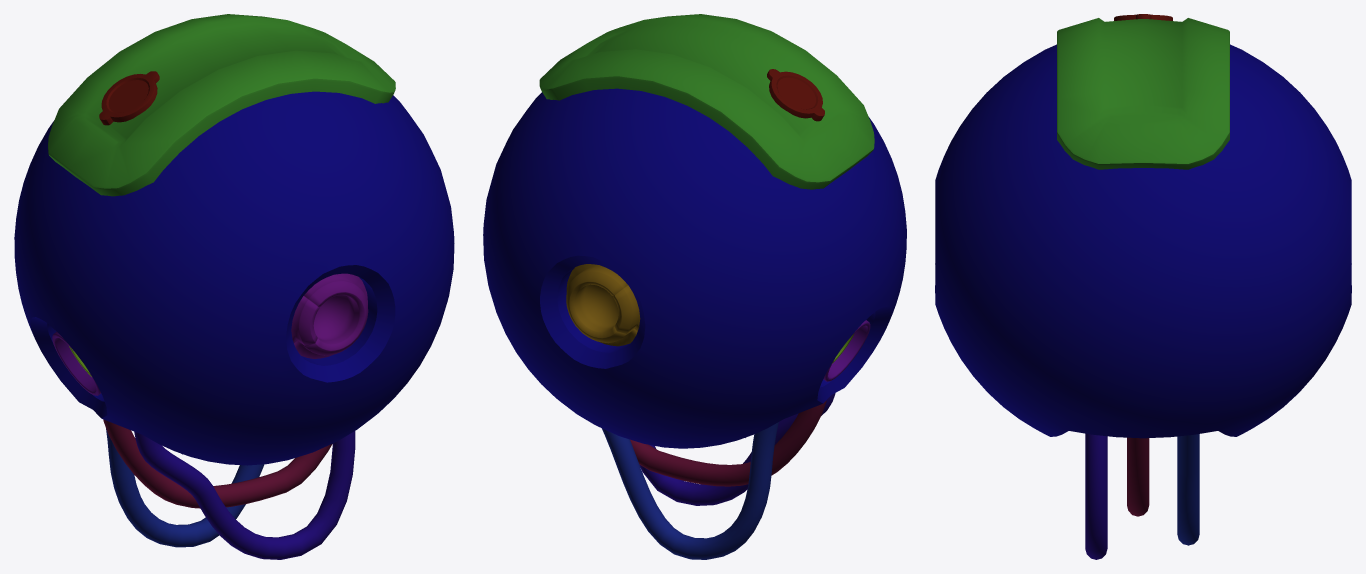
The model's file is Boss.fbx.
3 views of the same model, side by side, from view 1: azimuth 30°, elevation 25°; view 2: azimuth 150°, elevation 25°; view 3: azimuth 270°, elevation 25° (orthographic). The views are drawn at different scales.
Visible parts, largest first — view 1: Sphere002, Object009, Object010, Object013, Object011, Object012, Object008, Object006; view 2: Sphere002, Object009, Object012, Object007, Object011, Object010, Object008, Object006; view 3: Sphere002, Object009, Object010, Object012, Object011.
Boxes of the visible parts, box(x1,y1,x2,y2) form: Sphere002: box(14, 91, 454, 465); Object009: box(48, 14, 395, 196); Object010: box(134, 431, 355, 559); Object013: box(291, 273, 368, 358); Object011: box(103, 419, 332, 508); Object012: box(106, 428, 264, 547); Object008: box(99, 71, 159, 125); Object006: box(52, 331, 100, 395); Sphere002: box(483, 88, 906, 448); Object009: box(539, 14, 874, 189); Object012: box(602, 422, 778, 559); Object007: box(566, 264, 640, 346); Object011: box(630, 400, 826, 486); Object010: box(639, 393, 835, 505); Object008: box(767, 69, 824, 121); Object006: box(823, 320, 870, 381); Sphere002: box(935, 44, 1351, 438); Object009: box(1057, 18, 1229, 169); Object010: box(1085, 433, 1107, 559); Object012: box(1177, 434, 1199, 545); Object011: box(1127, 437, 1149, 516).
Size of the model in its own units: 0.8825 by 1.15 by 0.8512.
